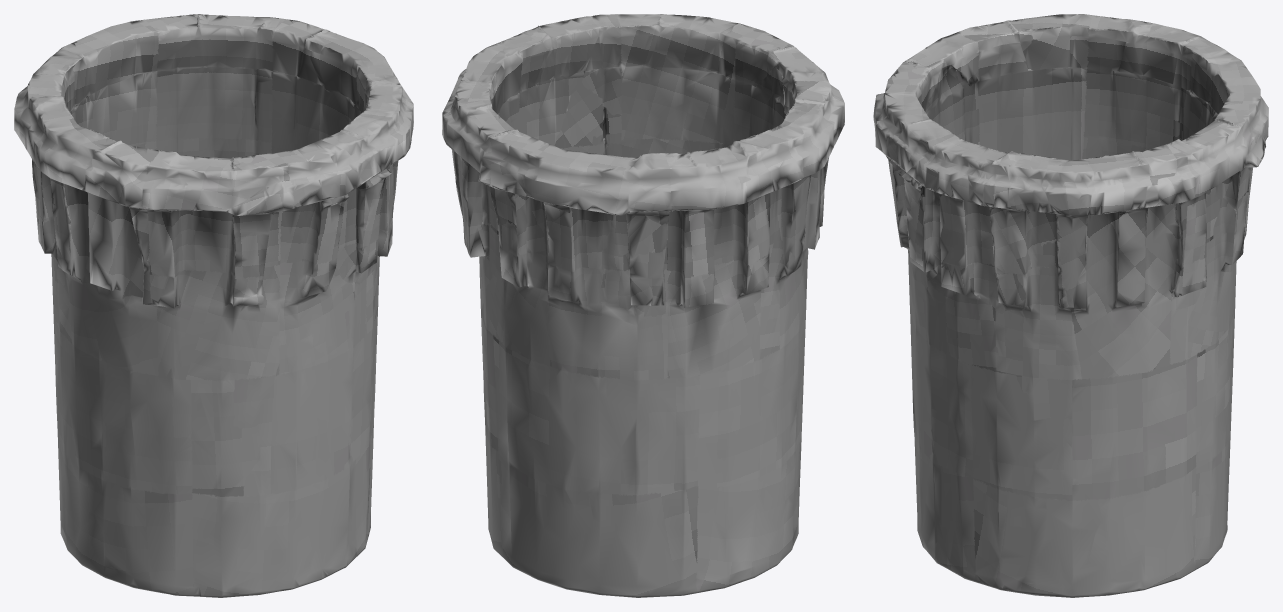
The model's file is l_trash_bin.glb.
3 renders of one model, left to right at view 1: azimuth 30°, elevation 25°; view 2: azimuth 150°, elevation 25°; view 3: azimuth 270°, elevation 25°, orthographic.
Visible parts, largest first — view 1: tripo_node_8b9f4093-4ef0-4f0f-9fa9-e7602b0433b9; view 2: tripo_node_8b9f4093-4ef0-4f0f-9fa9-e7602b0433b9; view 3: tripo_node_8b9f4093-4ef0-4f0f-9fa9-e7602b0433b9.
Part boxes in pixels (left/top/right/bottom): tripo_node_8b9f4093-4ef0-4f0f-9fa9-e7602b0433b9: left=14, top=14, right=413, bottom=597; tripo_node_8b9f4093-4ef0-4f0f-9fa9-e7602b0433b9: left=442, top=14, right=844, bottom=597; tripo_node_8b9f4093-4ef0-4f0f-9fa9-e7602b0433b9: left=873, top=14, right=1268, bottom=597.
Size of the model in its own units: 0.813 by 0.9998 by 0.8055.
Materials: 1 (1 with a texture image).
